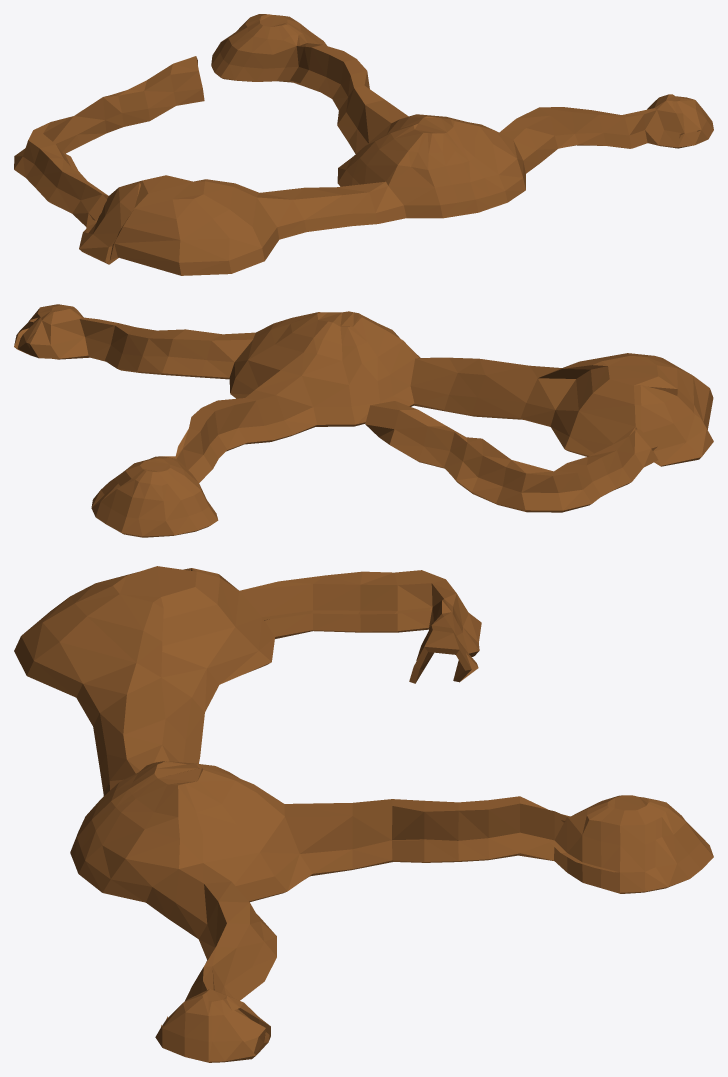
The picture shows the model from 3 angles, top to bottom: view 1: azimuth 30°, elevation 25°; view 2: azimuth 150°, elevation 25°; view 3: azimuth 270°, elevation 25°; orthographic projection. The views are drawn at different scales.
Visible parts, largest first — view 1: Plane.012; view 2: Plane.012; view 3: Plane.012.
Part boxes in pixels (bbox=[...]): Plane.012: bbox=[14, 14, 713, 275]; Plane.012: bbox=[14, 304, 713, 537]; Plane.012: bbox=[14, 566, 713, 1062].
Bounding box in the file's own units: 9777 × 1536 × 6912.
